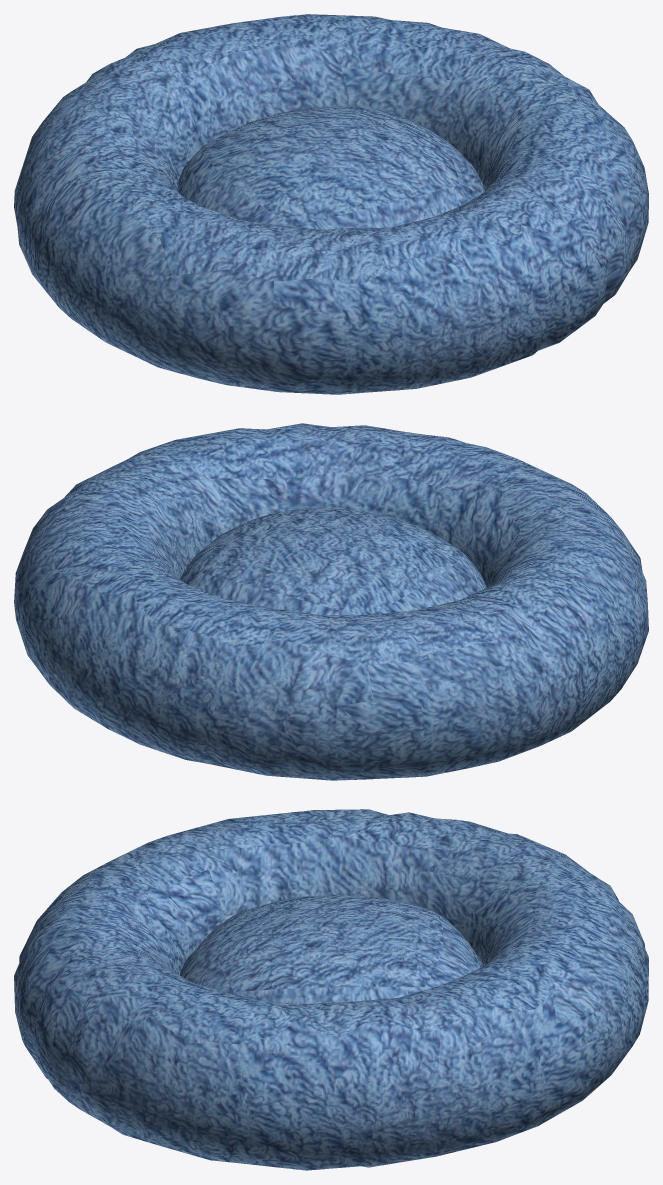
Rendered from YGB0110045.fbx.
The picture shows the model from 3 angles, top to bottom: view 1: azimuth 30°, elevation 25°; view 2: azimuth 150°, elevation 25°; view 3: azimuth 270°, elevation 25°; orthographic projection.
Visible parts, largest first — view 1: smYGB0110045; view 2: smYGB0110045; view 3: smYGB0110045.
Boxes of the visible parts, x1,y1,x2,y2 form: smYGB0110045: (14,14,648,394); smYGB0110045: (14,423,648,780); smYGB0110045: (14,809,648,1170).
Bounding box in the file's own units: 137 × 39.4 × 136.
1 material, 1 textured.
